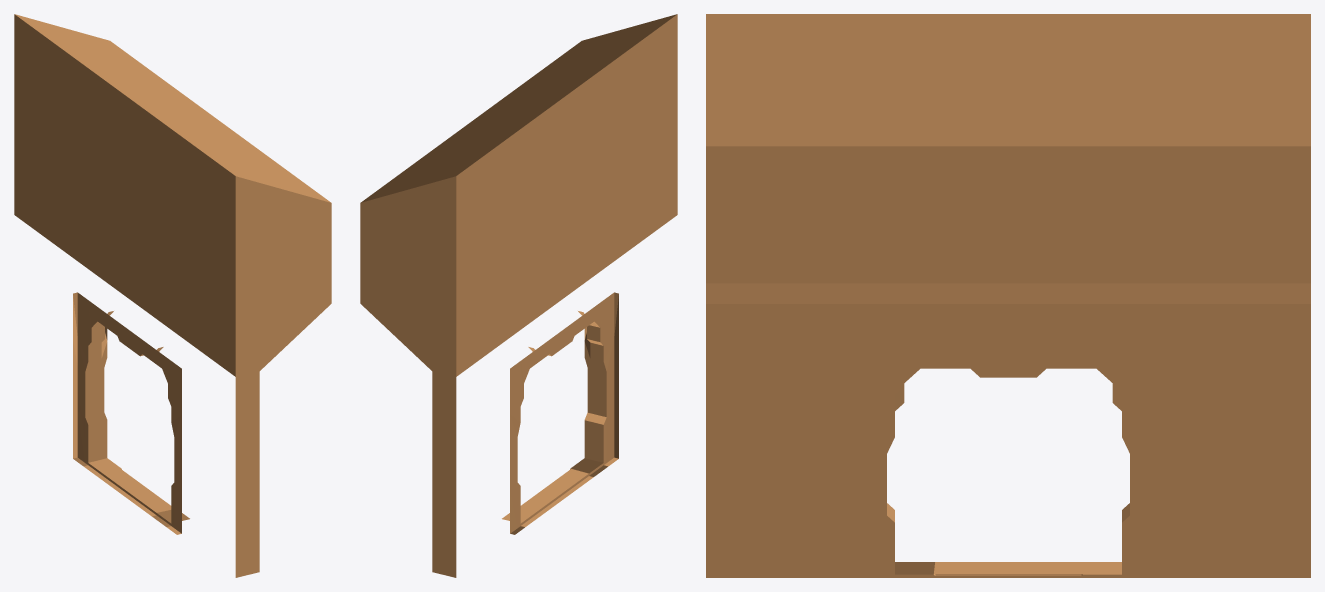
The model's file is uee_stanton_kit_ext_exit_0x8x8_02_reg.glb.
The picture shows the model from 3 angles, left to right: view 1: azimuth 30°, elevation 25°; view 2: azimuth 150°, elevation 25°; view 3: azimuth 270°, elevation 25°; orthographic projection. The views are drawn at different scales.
Bounding box in the file's own units: 2 × 8 × 8.
